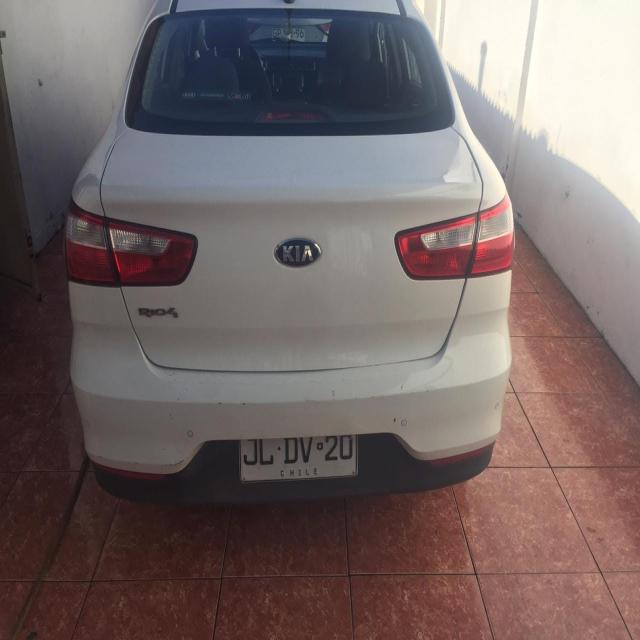patente: (238, 432, 358, 482)
